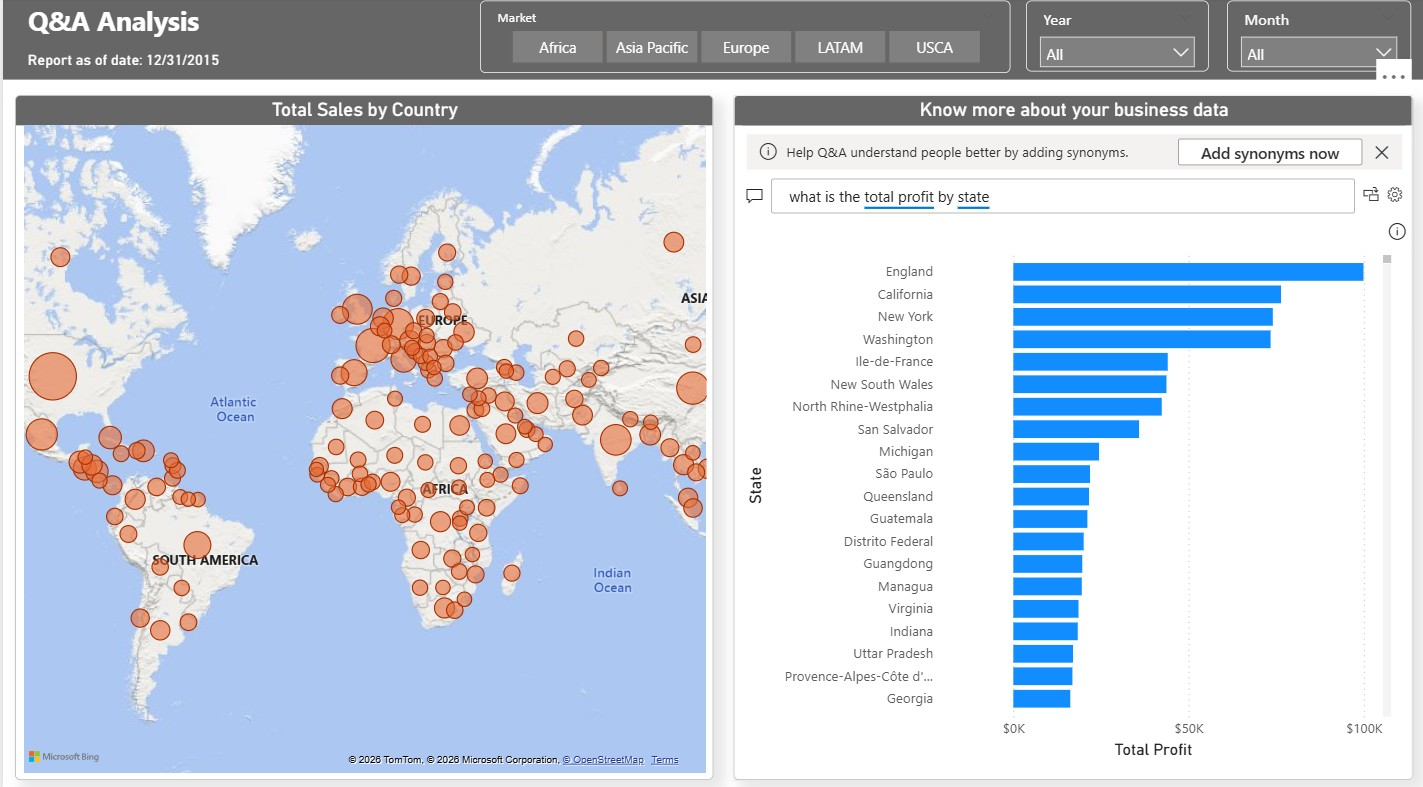

The dashboard page shown, as its layout file describes it:
{"tool":"powerbi","page":{"name":"Q&A Analysis","canvas":[1280,720],"ordinal":1},"visuals":[{"type":"shape","box":[0,1.5,1280,74.3],"z":0},{"type":"card","fields":{"Values":["Orders.As of Date"]},"box":[0,42.5,216.9,33.4],"z":1000},{"type":"slicer","fields":{"Values":["Date Table.Year1"]},"box":[922.4,4.7,164.7,64.3],"z":2000},{"type":"slicer","fields":{"Values":["Date Table.MonthName"]},"box":[1102.7,4.7,166.3,64.3],"z":3000},{"type":"textbox","box":[17.3,0,225.9,43.9],"z":7000},{"type":"slicer","fields":{"Values":["Orders.Market"]},"box":[429.2,4.5,477.7,65.2],"z":8000},{"type":"qnaVisual","title":"Know more about your business data","box":[658.2,89.5,612.7,617.3],"z":9000},{"type":"map","fields":{"Size":["Orders.Total Sales"],"Category":["Orders.Country"]},"box":[10.6,89.5,629.4,617.3],"z":10000}]}

Visuals, with their boxes in screenshot pixels (x1, y1, x2, y2), scaled from the page's 1280x720 canvas onto the 1423x787 screenshot:
shape: box(0, 2, 1422, 83)
card - Orders.As of Date: box(0, 46, 241, 83)
slicer - Date Table.Year1: box(1025, 5, 1209, 75)
slicer - Date Table.MonthName: box(1226, 5, 1411, 75)
textbox: box(19, 0, 270, 48)
slicer - Orders.Market: box(477, 5, 1008, 76)
"Know more about your business data" qnaVisual: box(732, 98, 1413, 773)
map - Orders.Total Sales x Orders.Country: box(12, 98, 712, 773)
